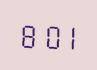eight: (18, 18, 36, 49)
one: (57, 20, 75, 50)
zero: (38, 19, 56, 50)
